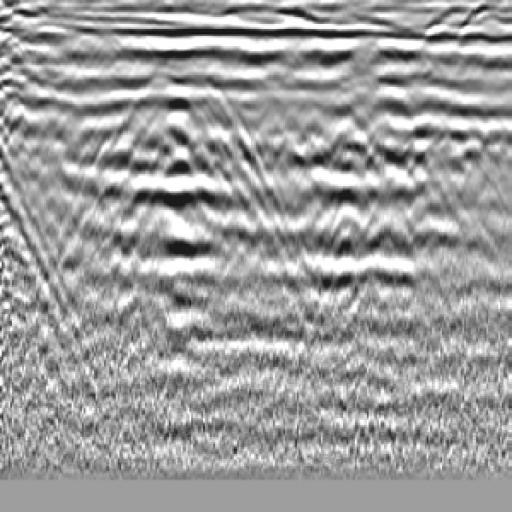metalic: (105, 65, 258, 148)
